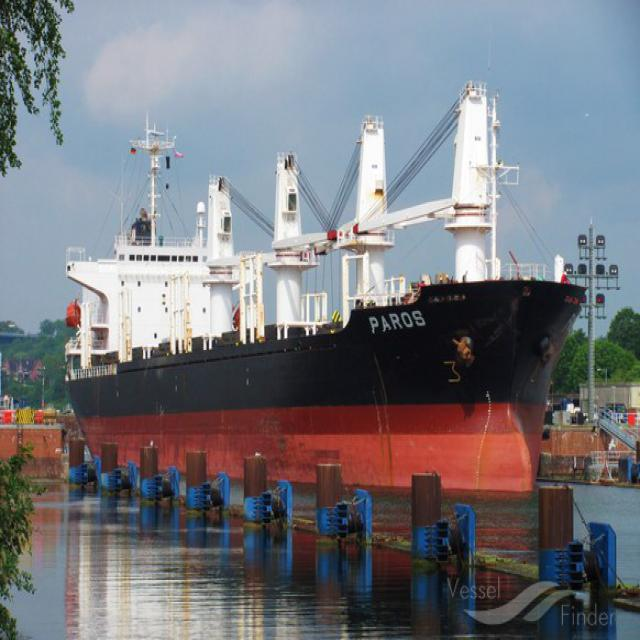OCR: (365, 307, 433, 339)
